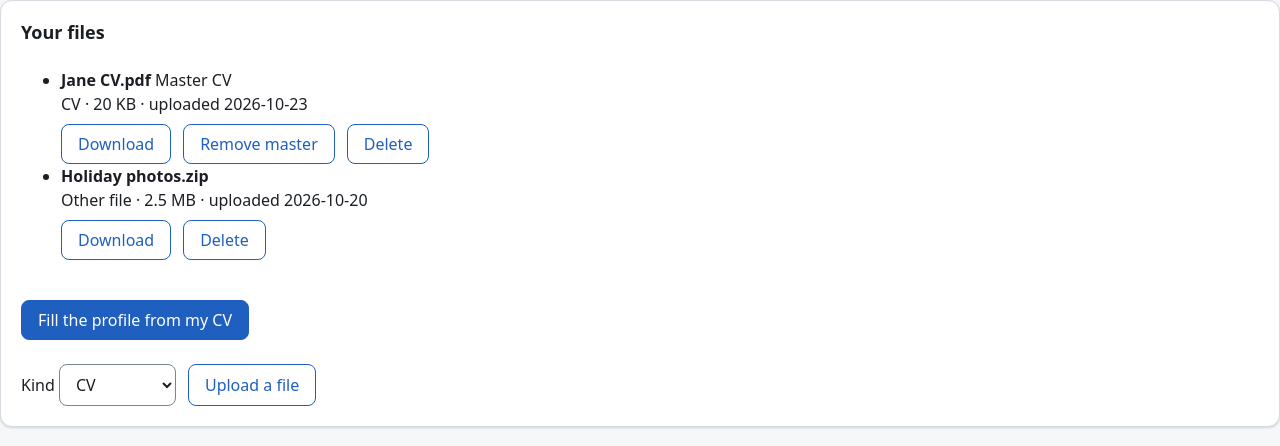
Test: download and delete › deletes after confirmation and removes the file from the list
Check: the text "Holiday photos.zip" is shown, box [61,164,209,186]
Click the button "Delete" below "Holiday photos.zip": (224, 240) [183,220,266,260]
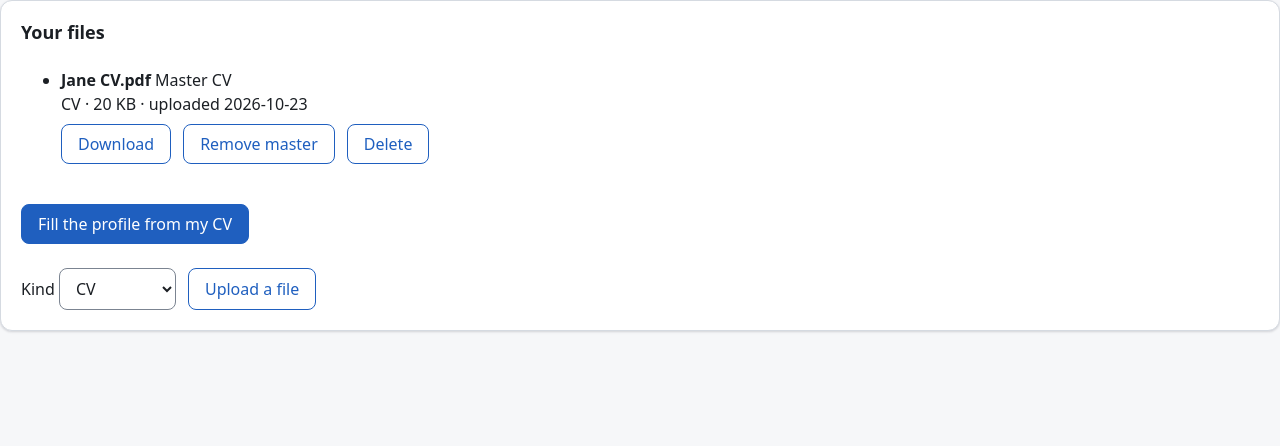
Check: the text "Jane CV.pdf" is shown, box [61,68,151,90]
Check: the text "Holiday photos.zip" is gone
